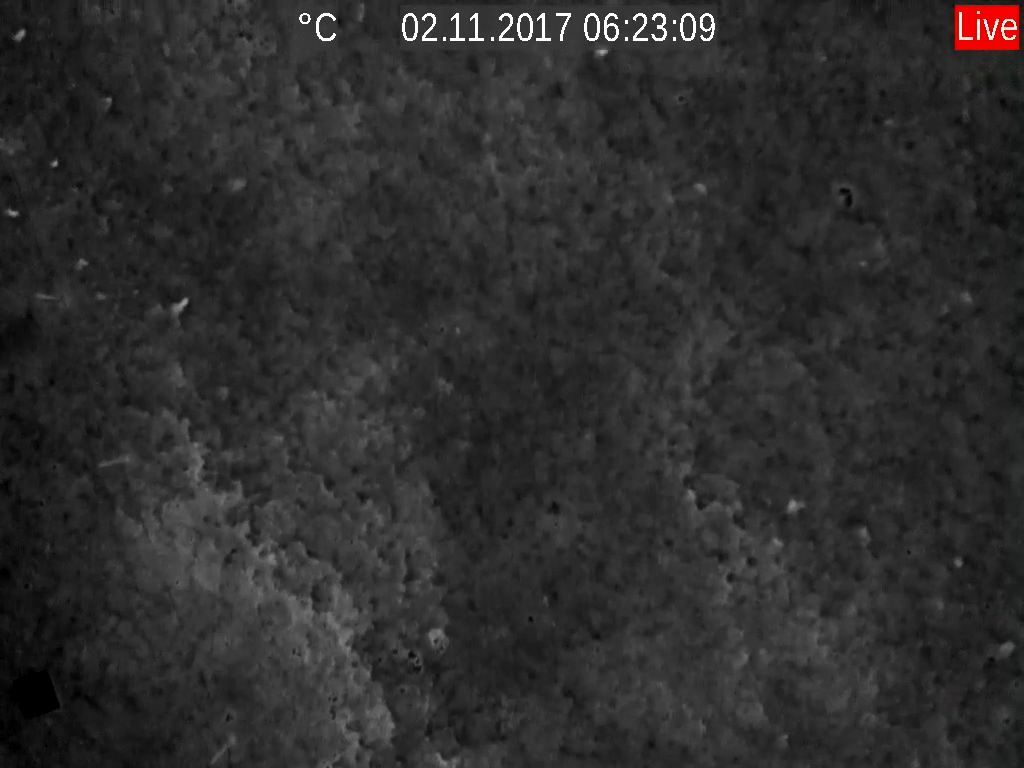warren: (163, 287, 195, 321), (34, 283, 61, 306), (4, 198, 25, 223), (9, 22, 31, 45)
